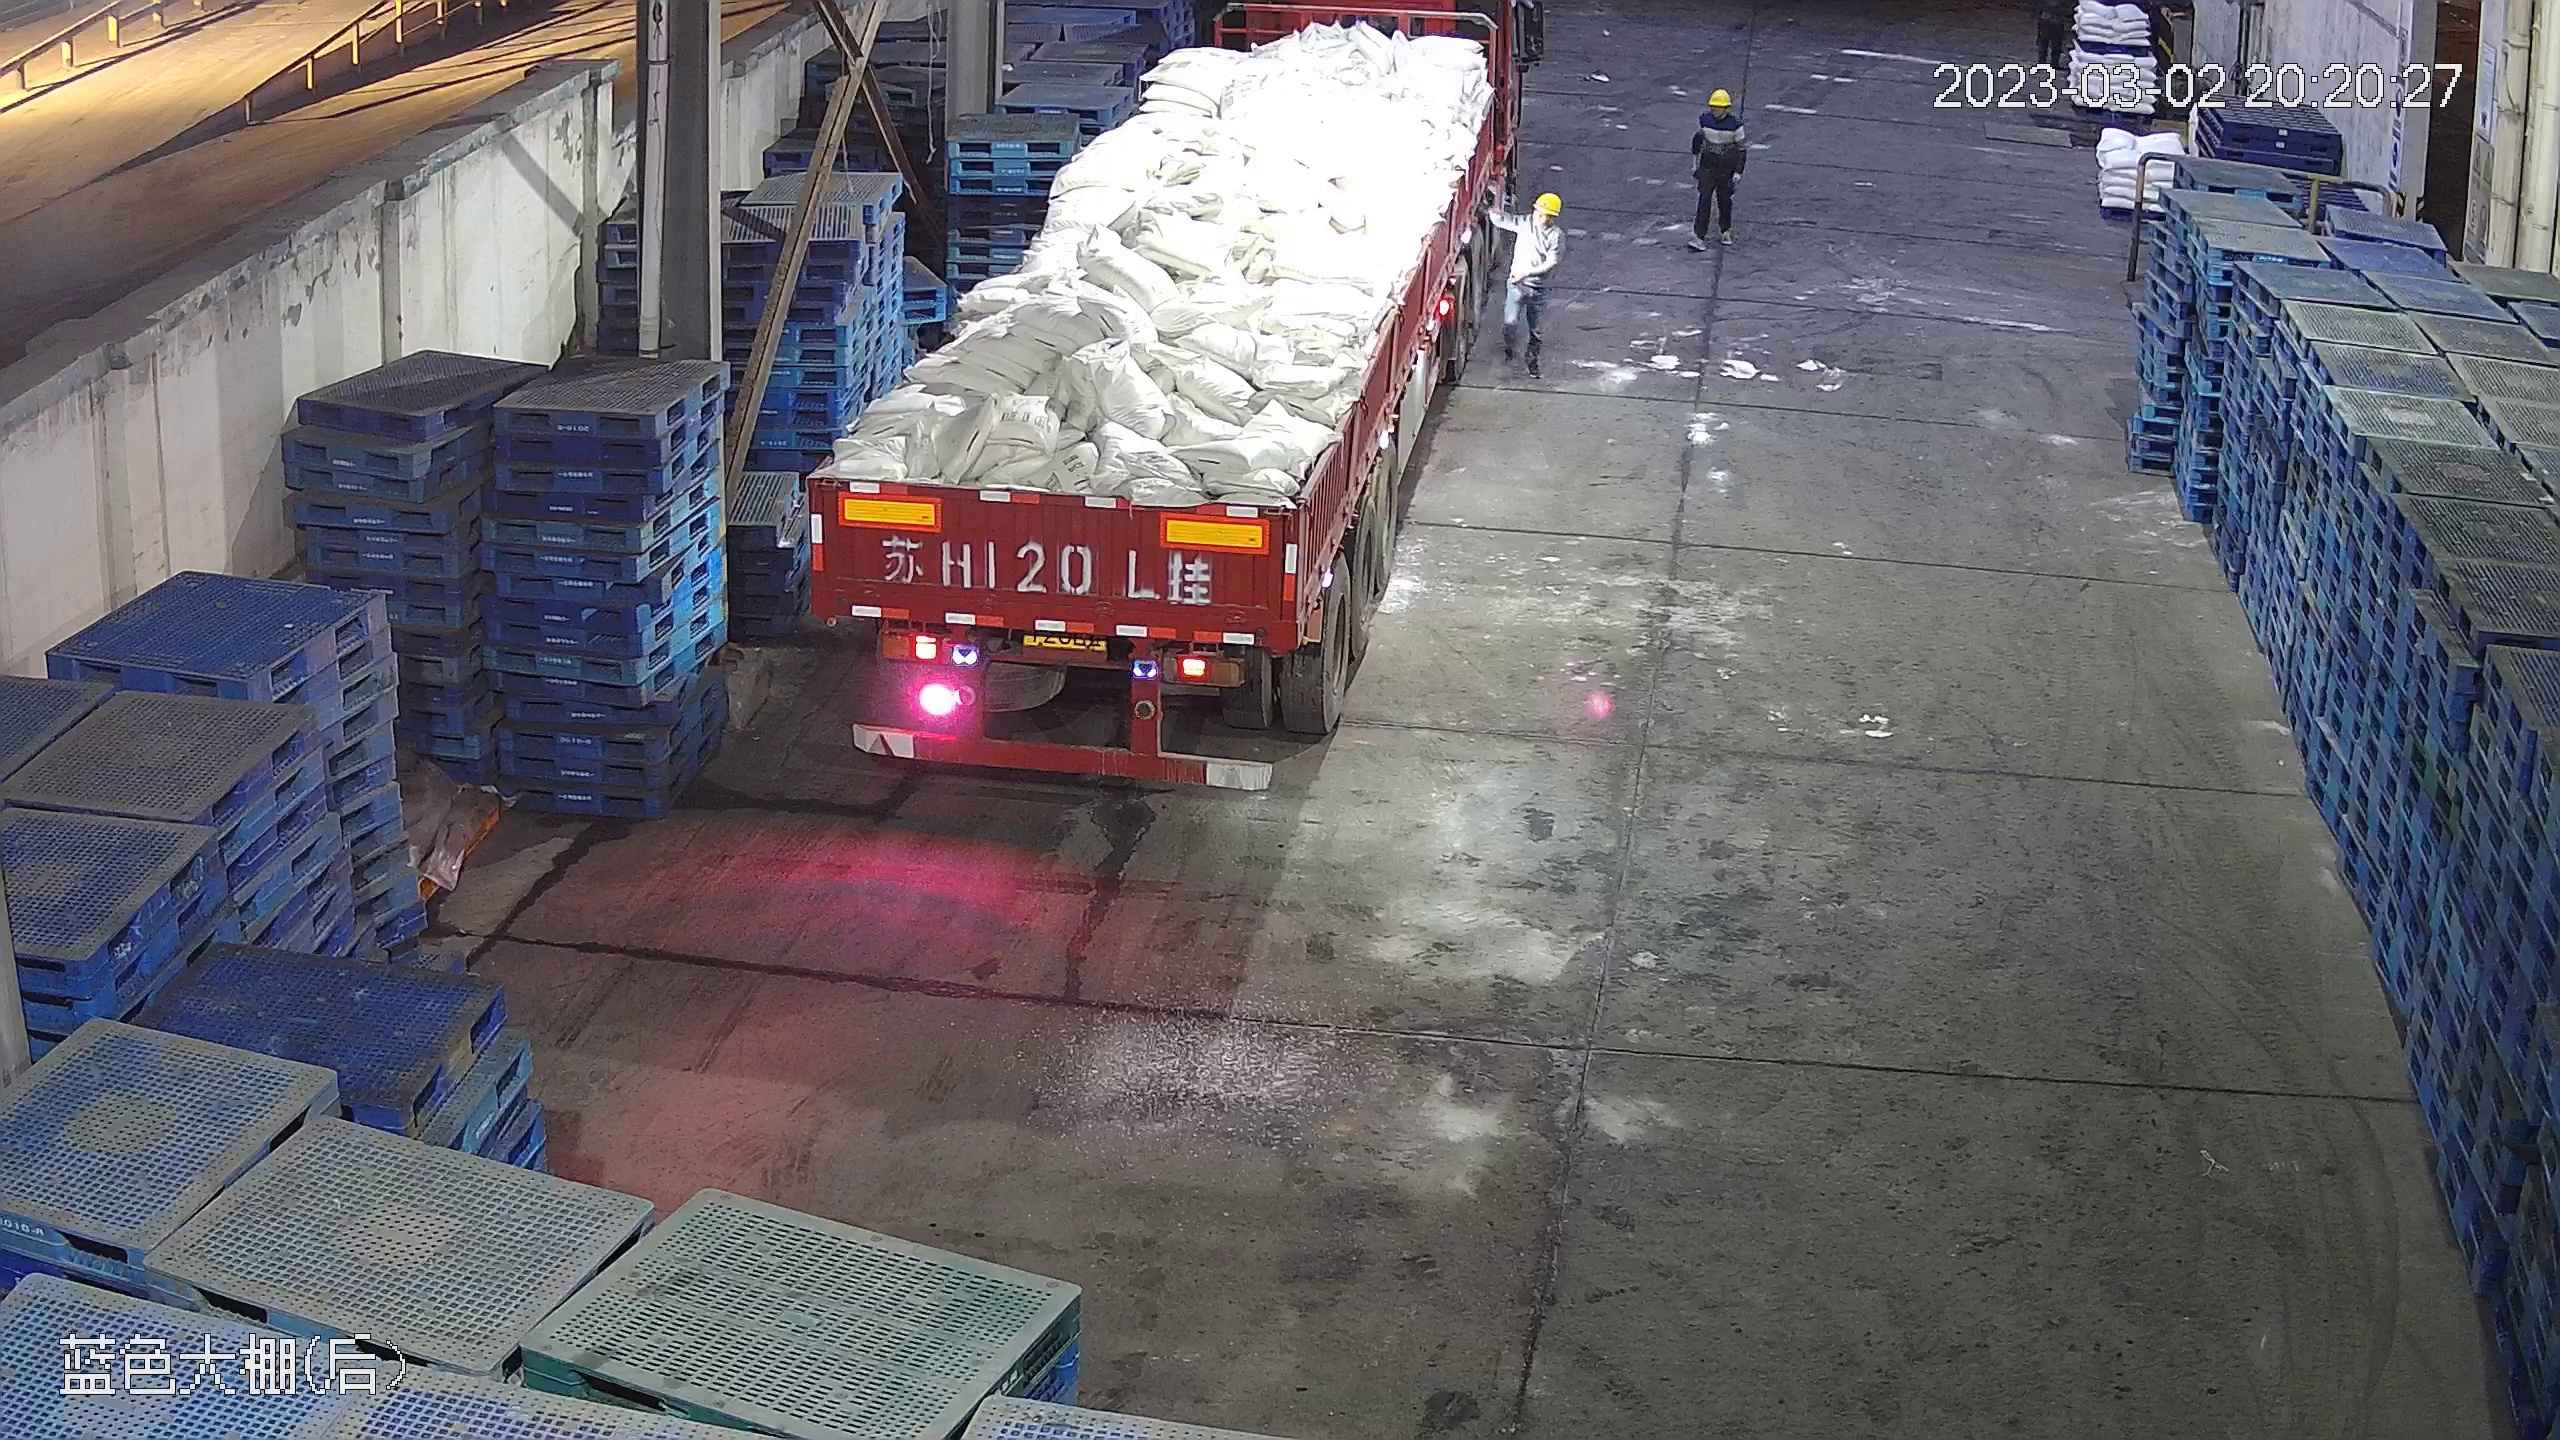head: (1520, 188, 1565, 246), (1700, 90, 1747, 137)
helmet: (1535, 189, 1561, 214), (1705, 88, 1733, 108)
people: (1499, 183, 1561, 382), (1685, 87, 1748, 243)
truck: (800, 2, 1543, 786)
